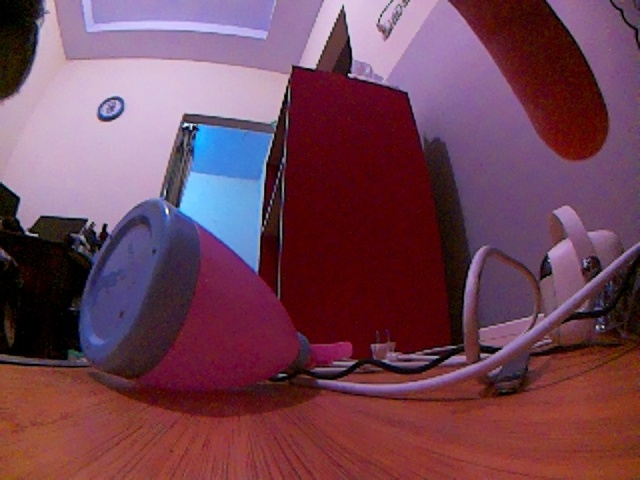korban: (78, 196, 357, 414)
